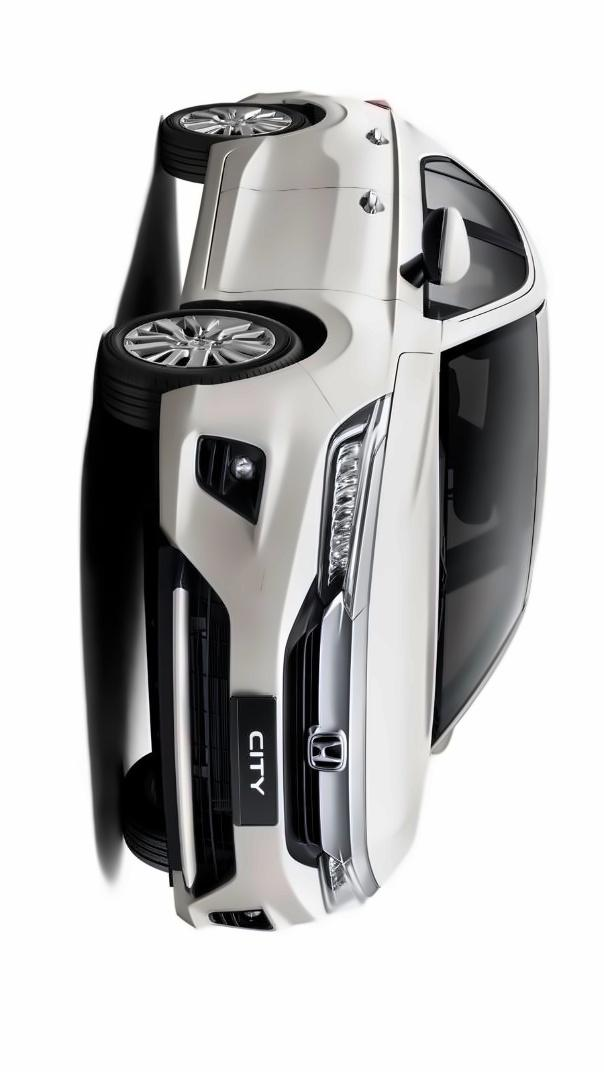Car hood: (346, 351, 434, 901)
Driver-s door - -F-R-: (180, 182, 549, 321)
Fender - -F-R-: (228, 279, 432, 413)
Front bumper: (130, 361, 339, 937)
Headlight - -L-: (321, 855, 370, 914)
Headlight - -R-: (321, 389, 388, 603)
Passenger-s door - -R-R-: (196, 117, 551, 216)
Side bumper - -R-: (164, 136, 270, 302)
Side mirror - -R-: (389, 204, 473, 286)
